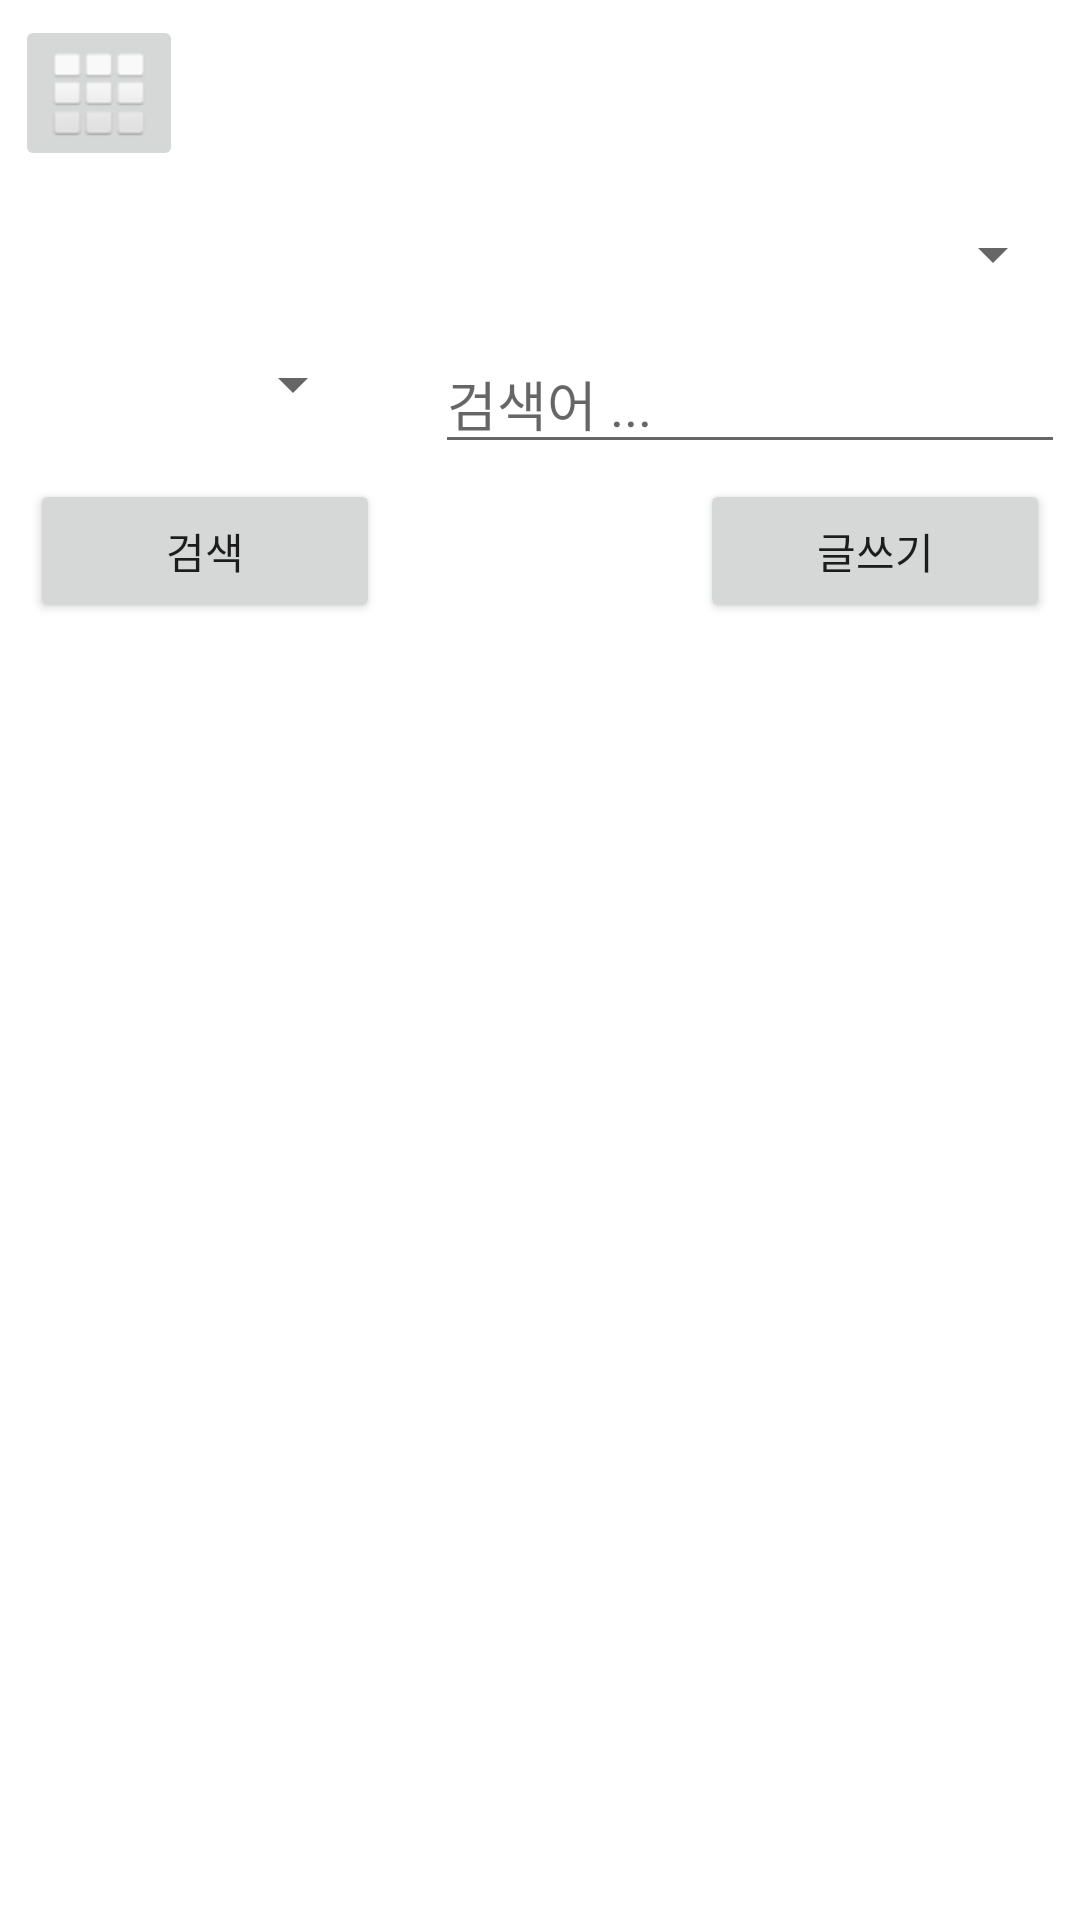

Icon click points for this 1080*1920 phone screenshot, format [x,y]:
dialer: [99,93]
